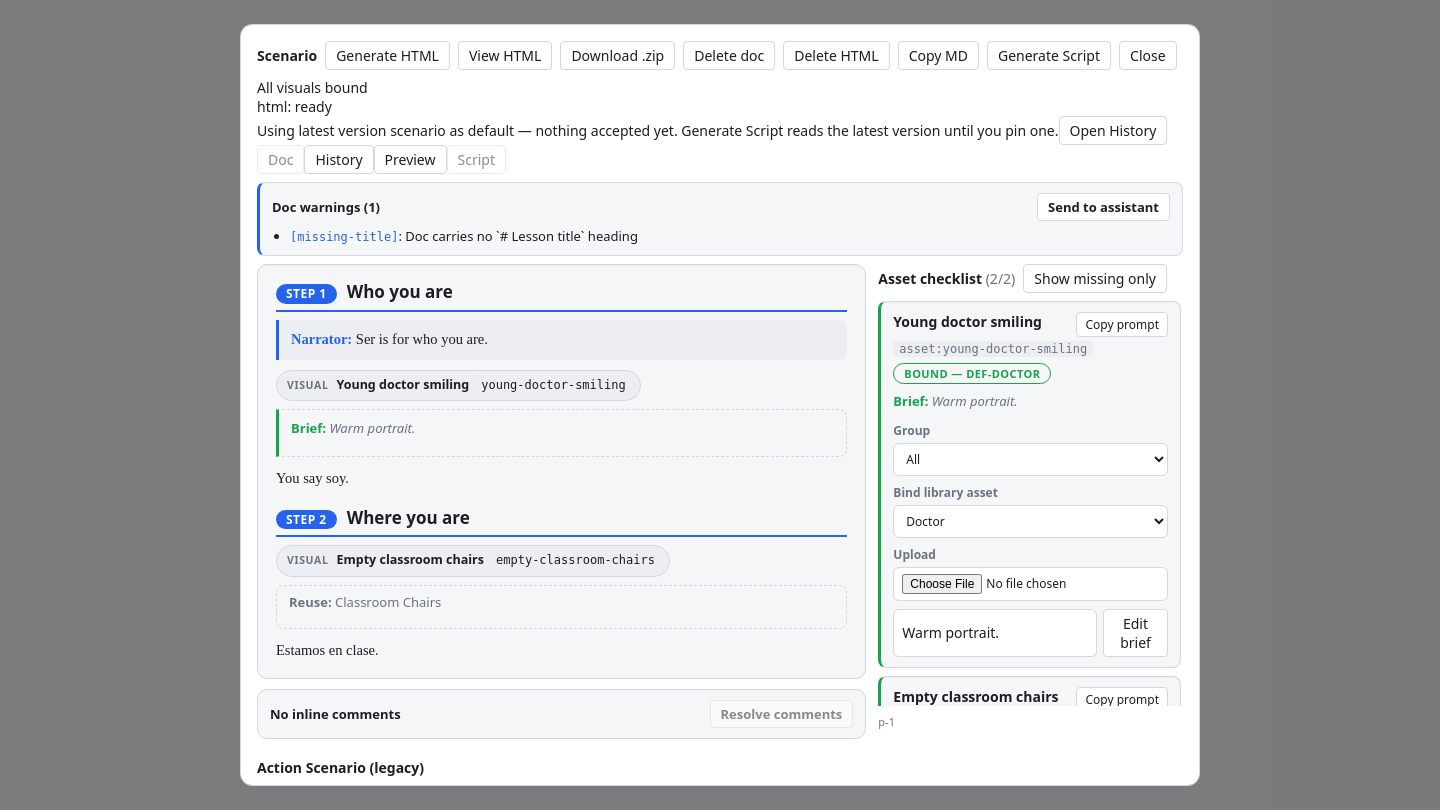
Test: AiScenarioModal doc-first blocking checklist (issue #463) › View plus zip enable once HTML ready; re-generation allowed; stale hint after doc edits
expect the button with test id "ai-scenario-generate" is enabled: met, box [325,41,450,70]
expect the text with test id "ai-scenario-html-state" shows "ready": met, box [295,97,332,116]
# View opens the stored HTML preview in the Preview tab.
Click the button with test id "ai-scenario-view" at (505, 56), box [458,41,552,70]
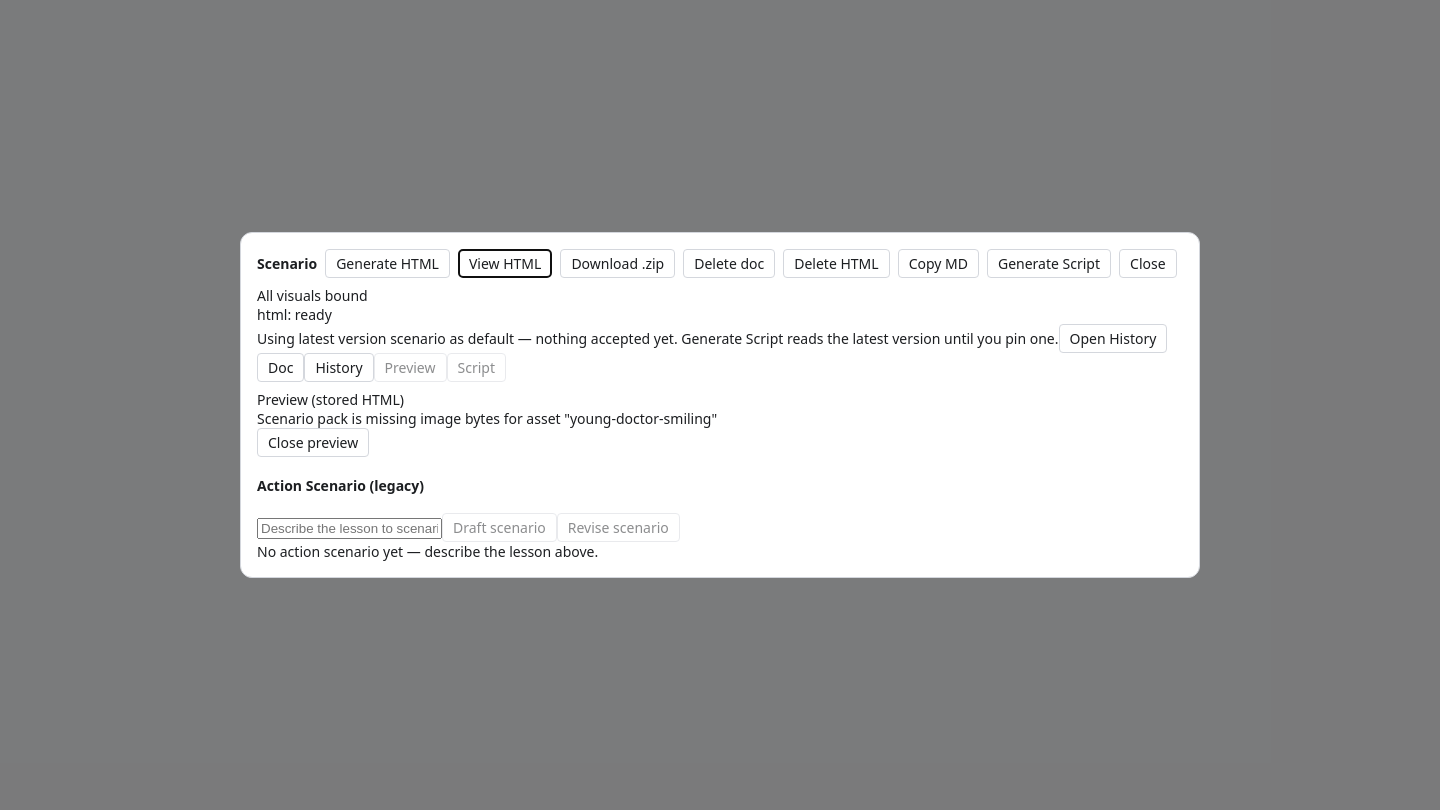
expect the element with test id "ai-scenario-html-preview" is shown: met, box [257,390,717,457]
expect the button with test id "ai-scenario-modal-tab-preview" is disabled: met, box [374,353,446,382]
# Back to Doc to edit via the checklist.
Click the button with test id "ai-scenario-modal-tab-doc" at (281, 367), box [257,353,304,382]
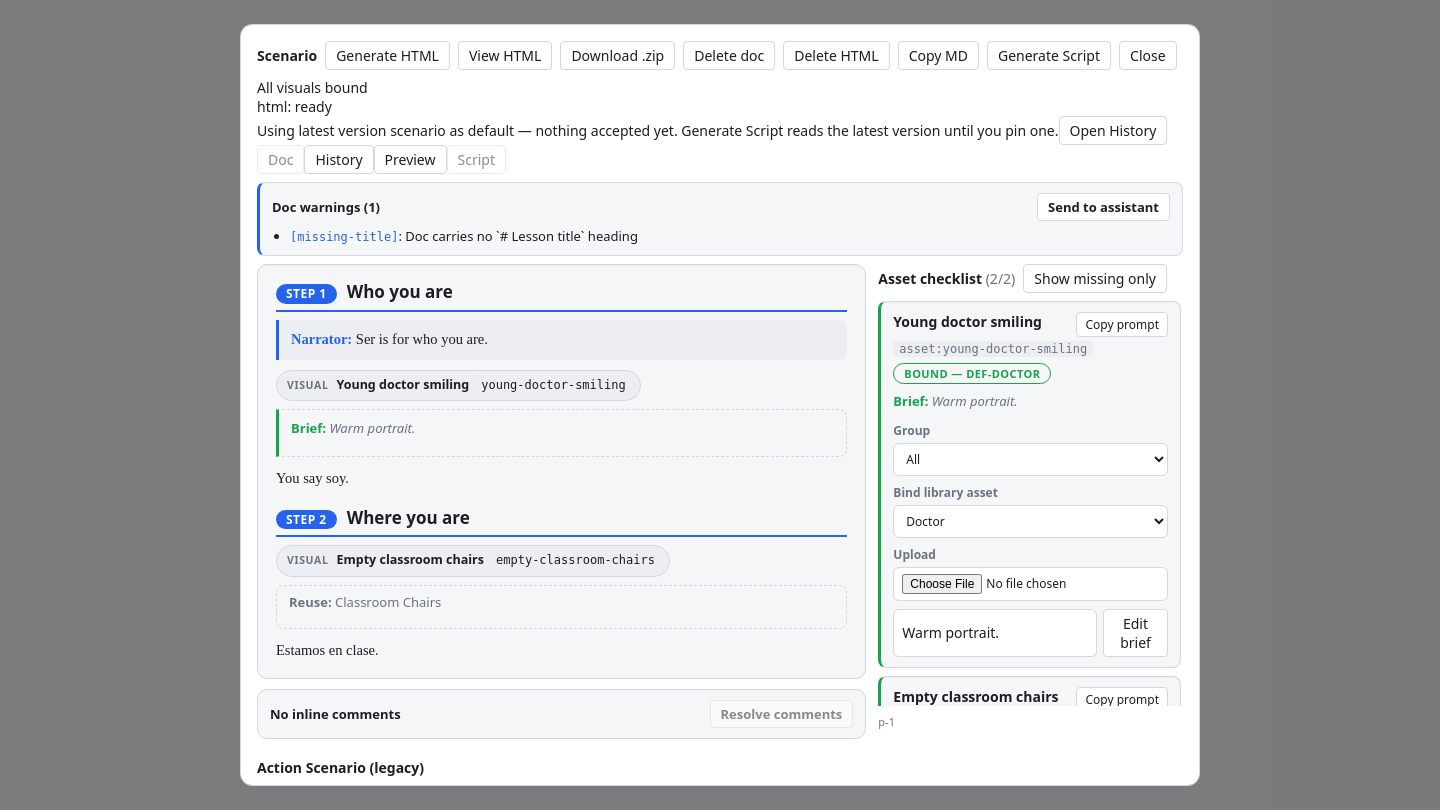
Replace the text in the field with test id "ai-scenario-checklist-brief-input-young-doctor-smiling" with "Edited after generation." at (995, 632), box [893,608,1097,656]
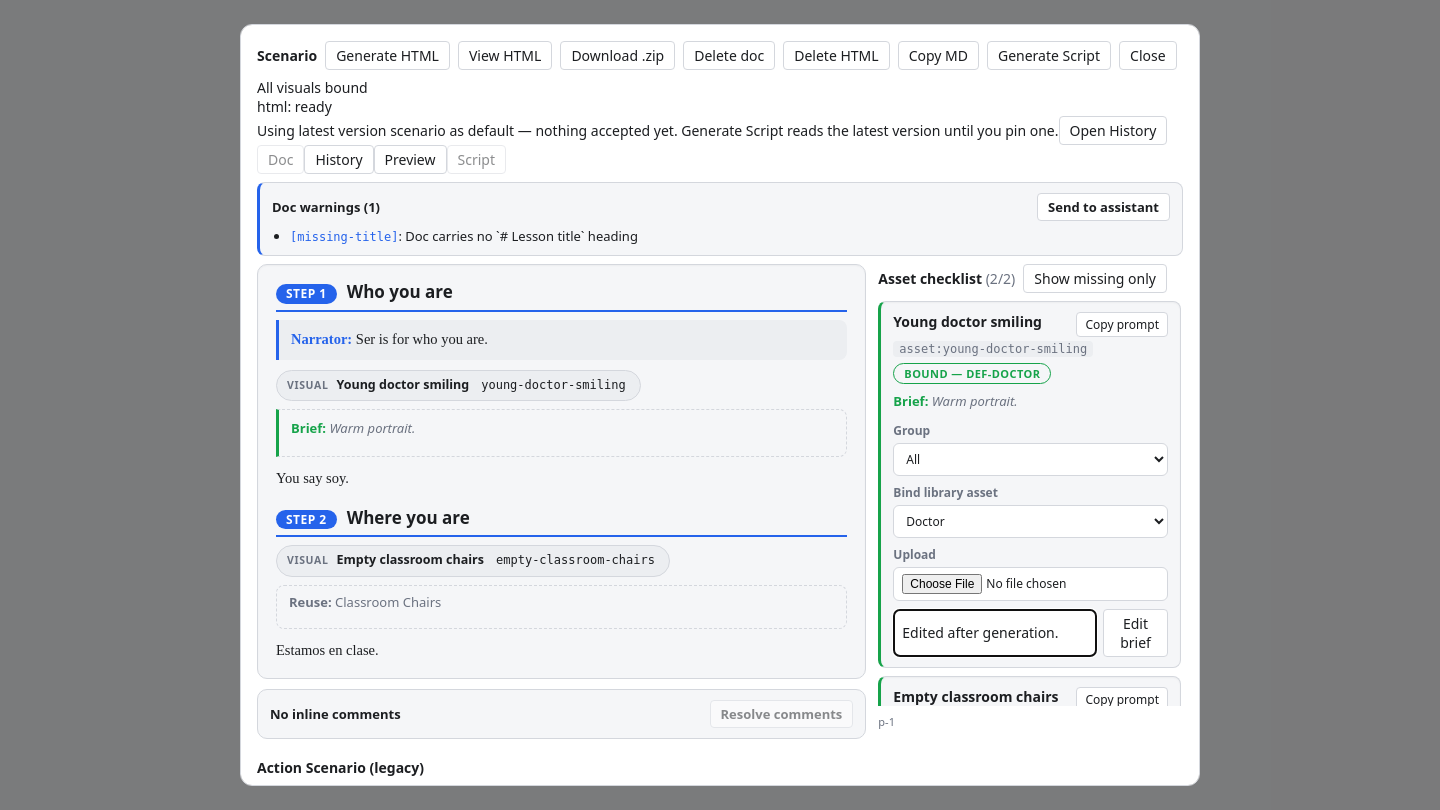
Click the button with test id "ai-scenario-checklist-save-brief-young-doctor-smiling" at (1136, 632), box [1103,608,1168,656]
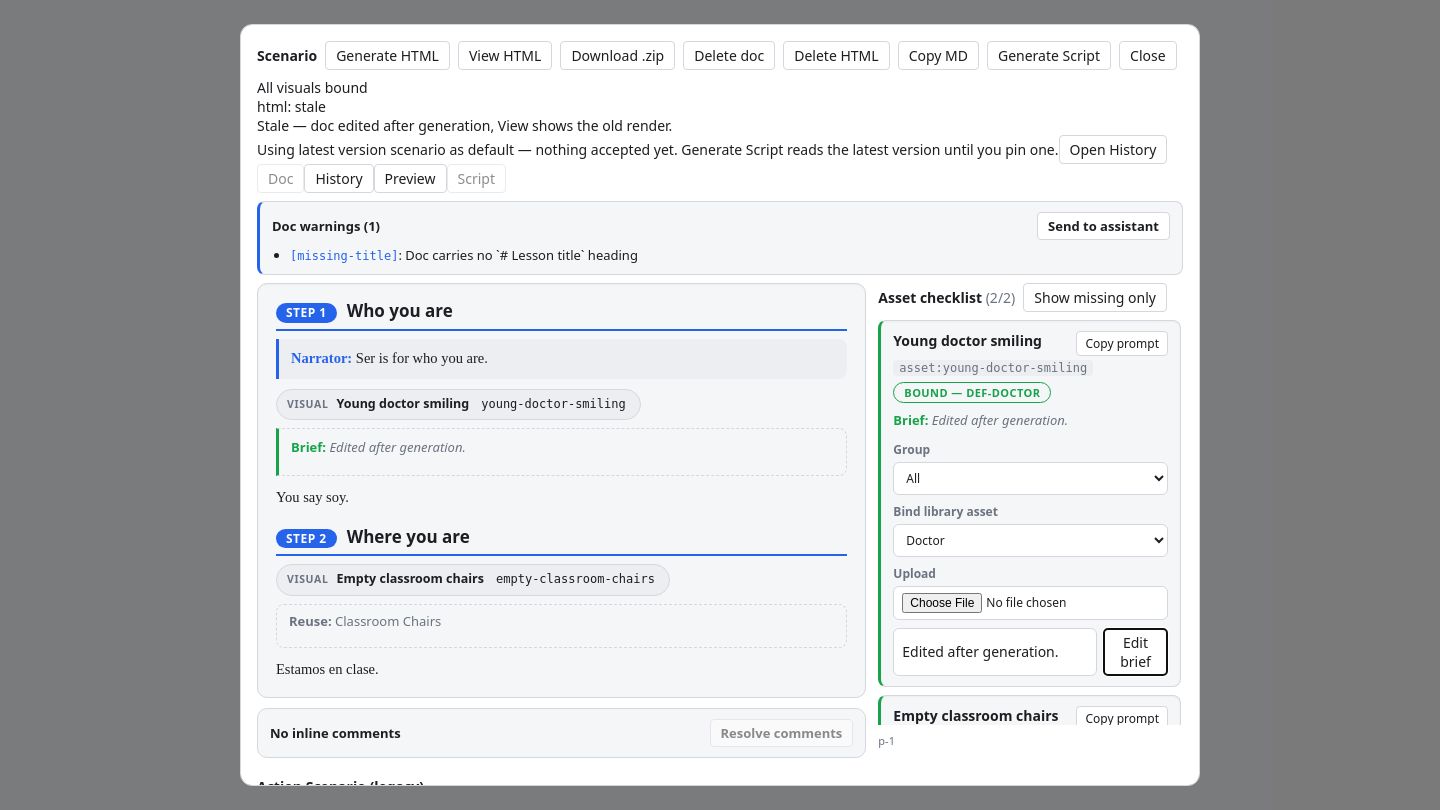
expect the button with test id "ai-scenario-view" is enabled: met, box [458,41,552,70]
expect the text with test id "ai-scenario-stale-hint" is shown: met, box [257,116,672,135]
expect the text with test id "ai-scenario-html-state" shows "stale": met, box [295,97,326,116]
